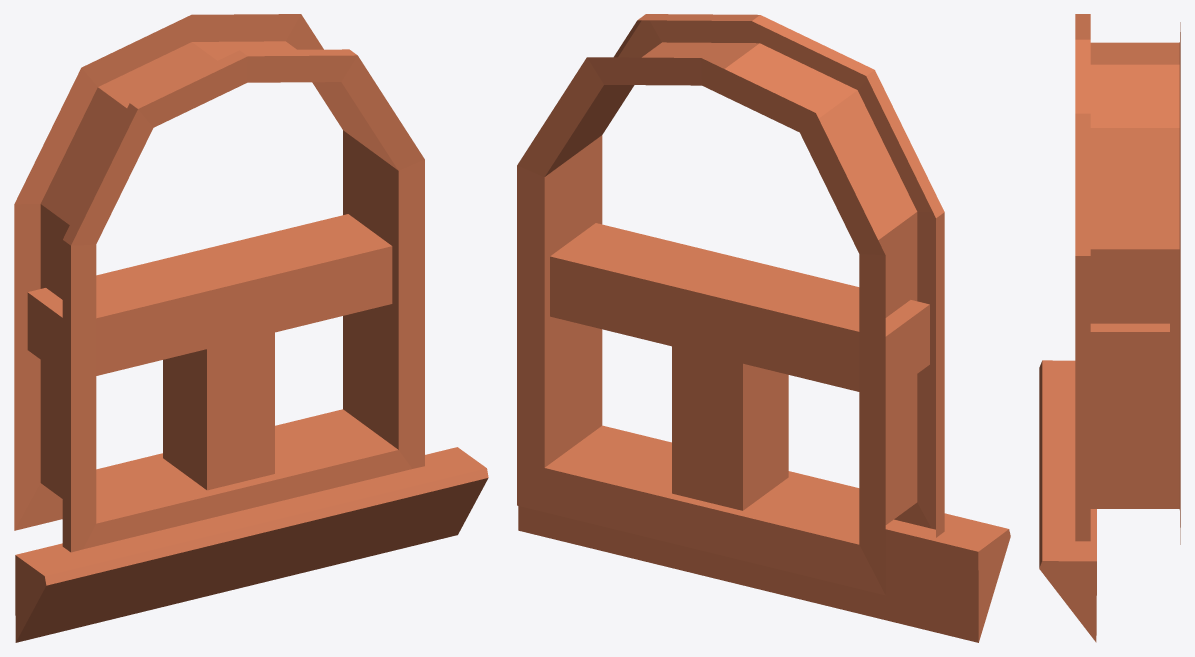
The model's file is window.fbx.
3 views of the same model, side by side, from view 1: azimuth 30°, elevation 25°; view 2: azimuth 150°, elevation 25°; view 3: azimuth 270°, elevation 25° (orthographic). The views are drawn at different scales.
Parts seen in each view (by area): view 1: Cube.001; view 2: Cube.001; view 3: Cube.001.
Part boxes in pixels (x1=…): Cube.001: x1=14, y1=14, x2=488, y2=642; Cube.001: x1=517, y1=14, x2=1010, y2=642; Cube.001: x1=1039, y1=14, x2=1180, y2=642.
Size of the model in its own units: 261 by 305 by 77.89.
